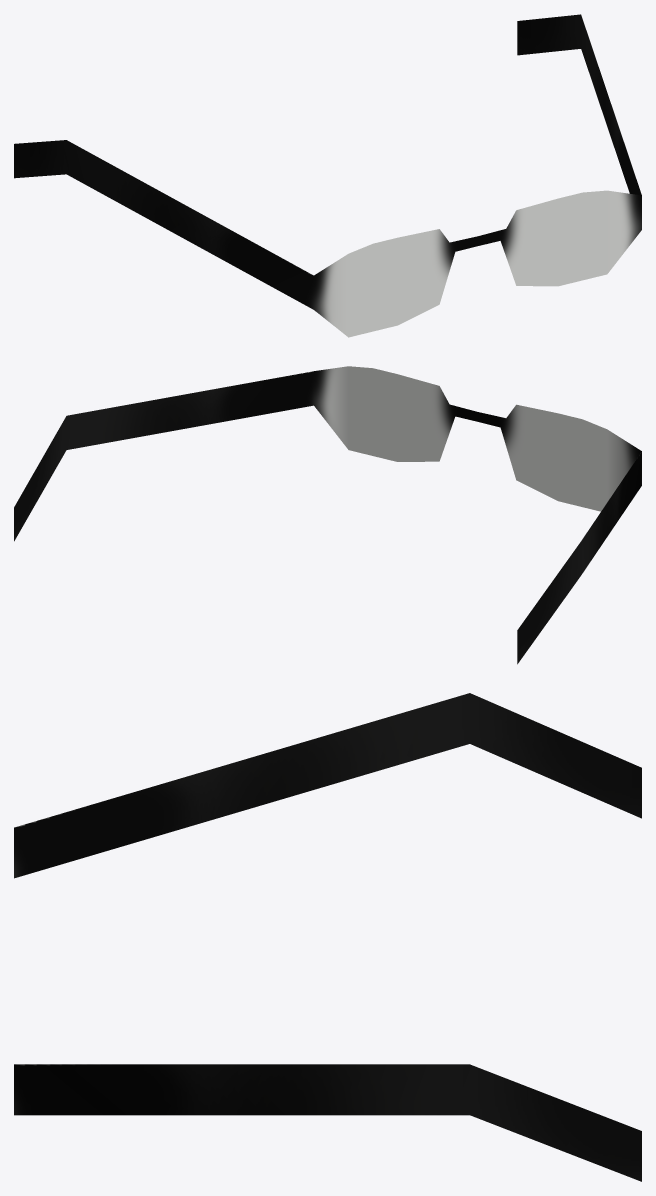
The model's file is Gafas.fbx.
The picture shows the model from 3 angles, top to bottom: view 1: azimuth 30°, elevation 25°; view 2: azimuth 150°, elevation 25°; view 3: azimuth 270°, elevation 25°; orthographic projection. The views are drawn at different scales.
Parts seen in each view (by area): view 1: Cube; view 2: Cube; view 3: Cube.
Part boxes in pixels (x1,y1,x2,y2): Cube: [14, 14, 641, 337]; Cube: [14, 366, 641, 664]; Cube: [14, 693, 641, 1181].
Size of the model in its own units: 55.5 by 11.95 by 39.66.
